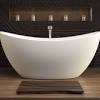bathub: (1, 27, 100, 86)
